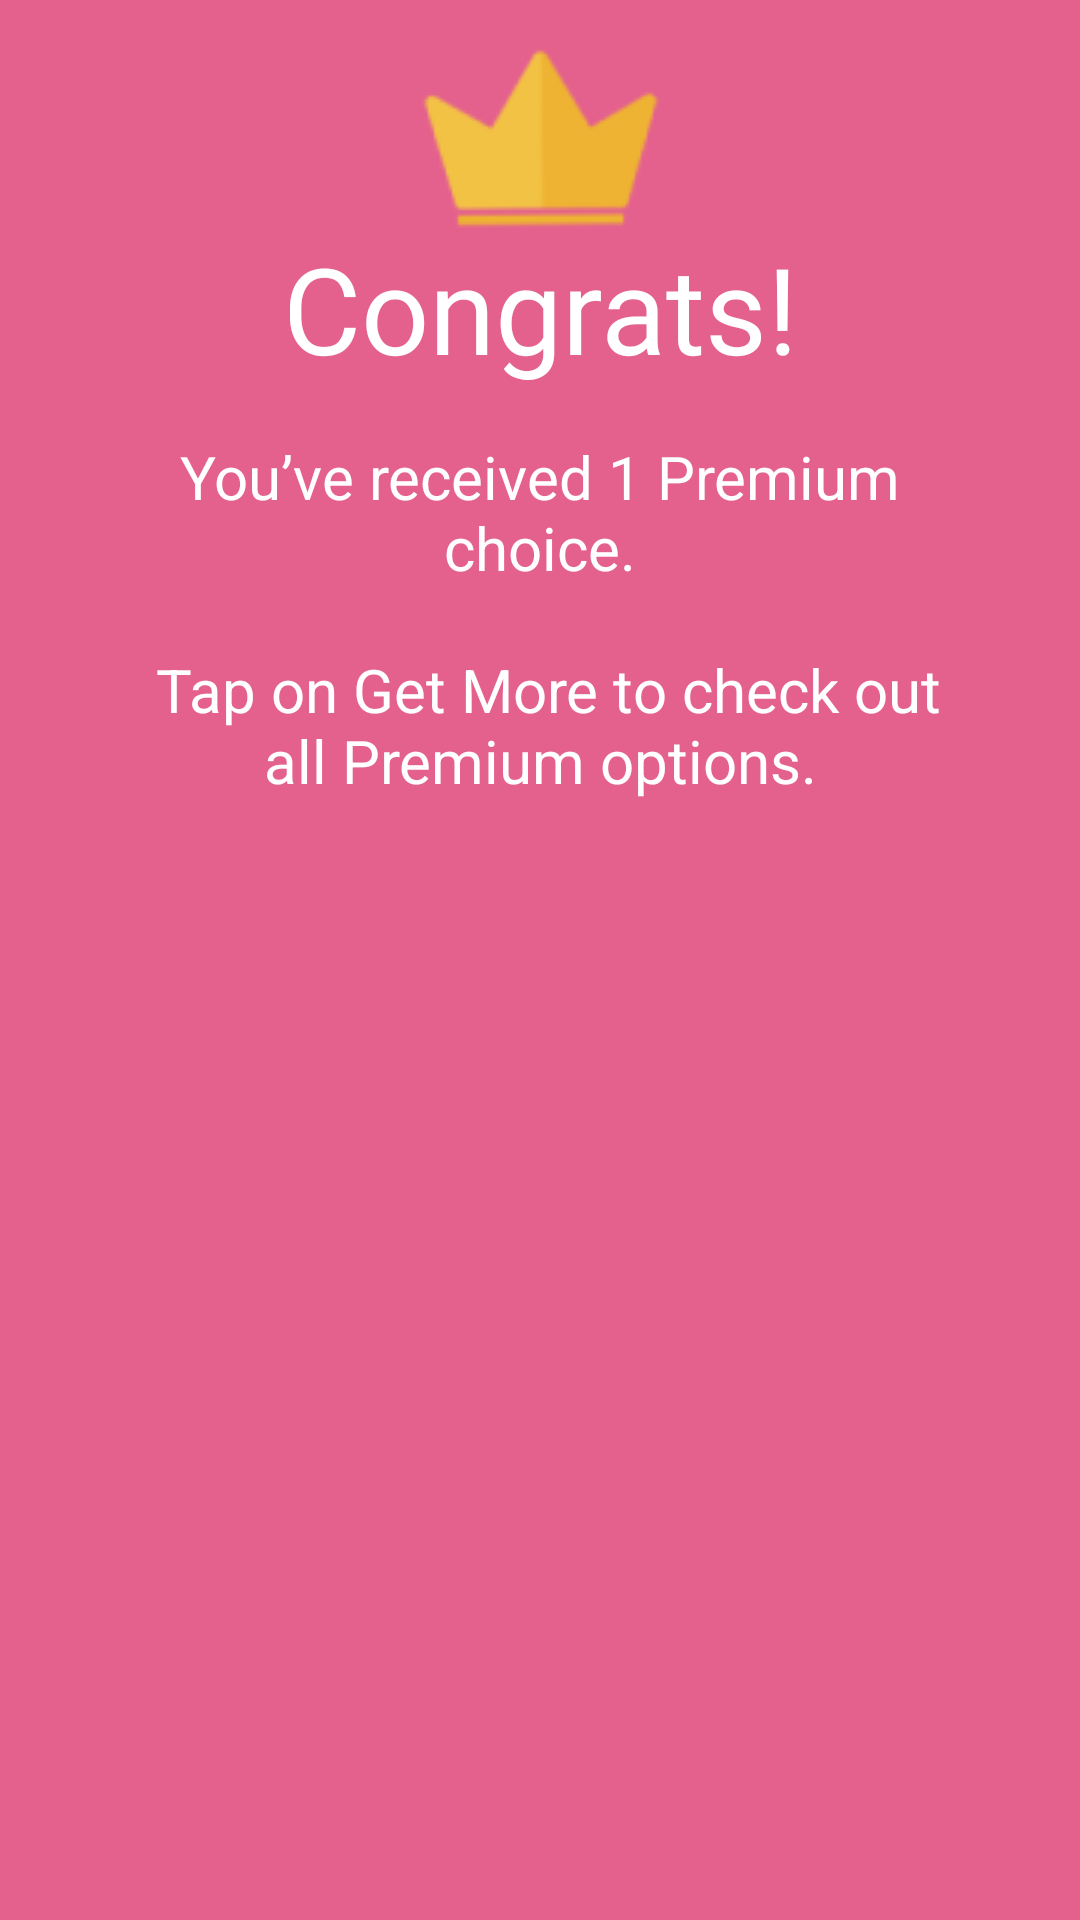

Named icons in this screenshot (1080px×1920px) and their centers, [x,y]:
crown: [540,138]
